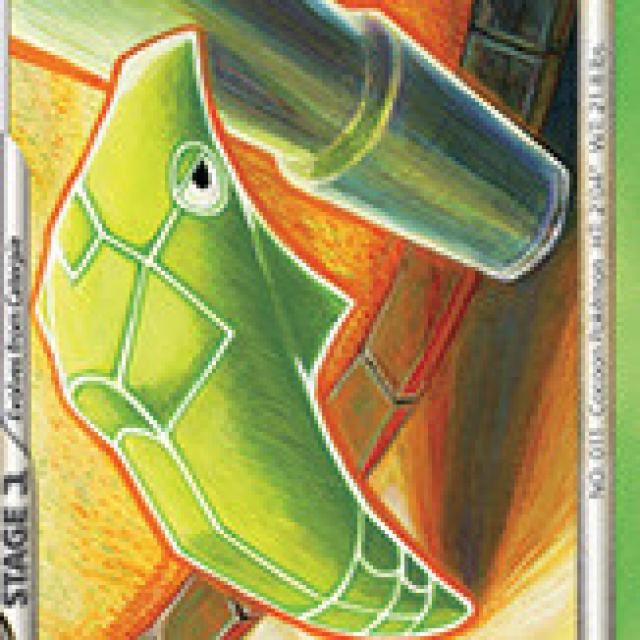Metapod: (20, 37, 504, 636)
